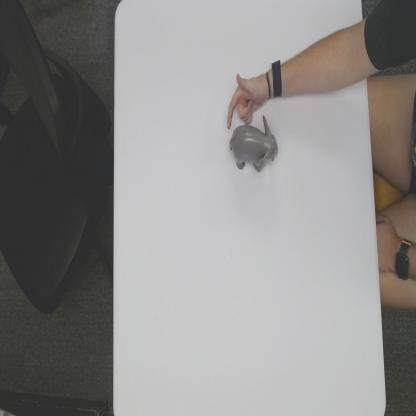Arm: (283, 21, 369, 98)
Elephant: (228, 114, 278, 174)
Hand: (225, 69, 271, 131)
